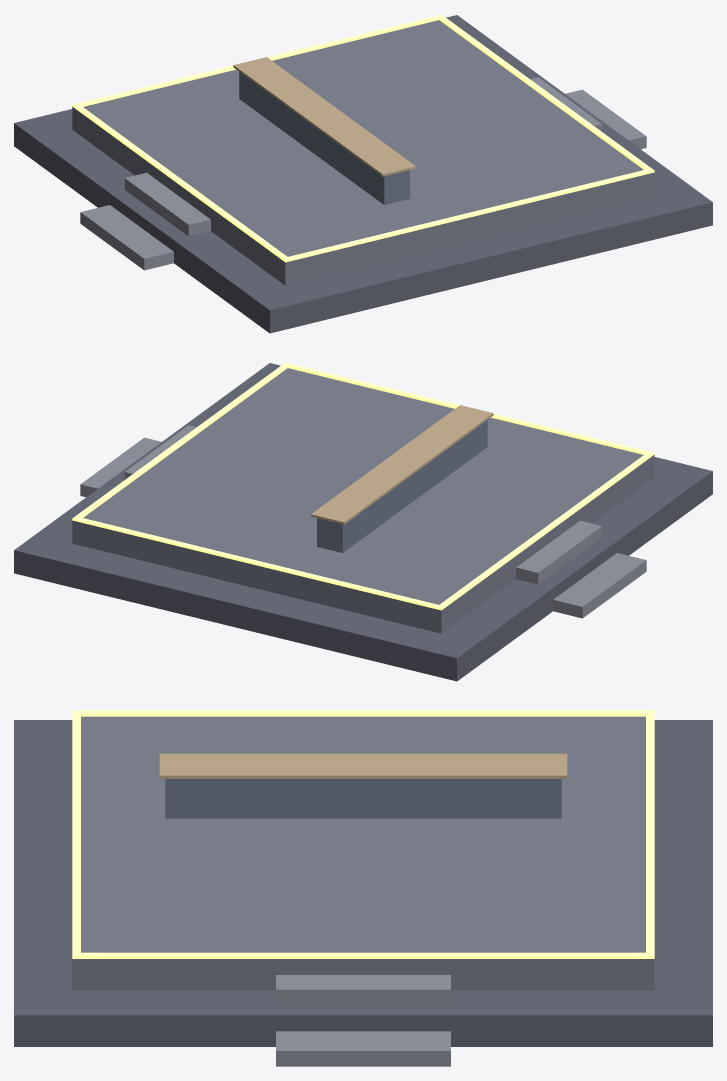
Rendered from wing-gate.glb.
The picture shows the model from 3 angles, top to bottom: view 1: azimuth 30°, elevation 25°; view 2: azimuth 150°, elevation 25°; view 3: azimuth 270°, elevation 25°; orthographic projection. The views are drawn at different scales.
Visible parts, largest first — view 1: Dispatch Gate; view 2: Dispatch Gate; view 3: Dispatch Gate.
Boxes of the visible parts, <box> form: Dispatch Gate: <box>14,14,712,333</box>; Dispatch Gate: <box>14,362,712,681</box>; Dispatch Gate: <box>14,710,712,1066</box>.
Bounding box in the file's own units: 13.6 × 2.06 × 12.
